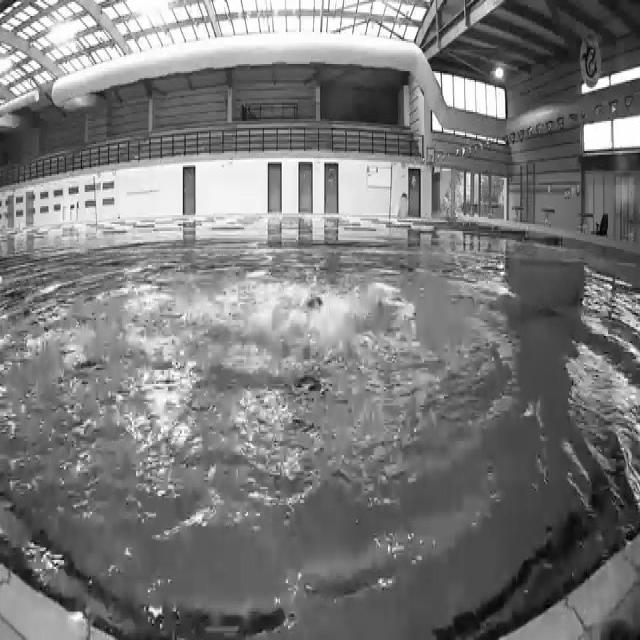Drowning: (267, 242, 366, 394)
